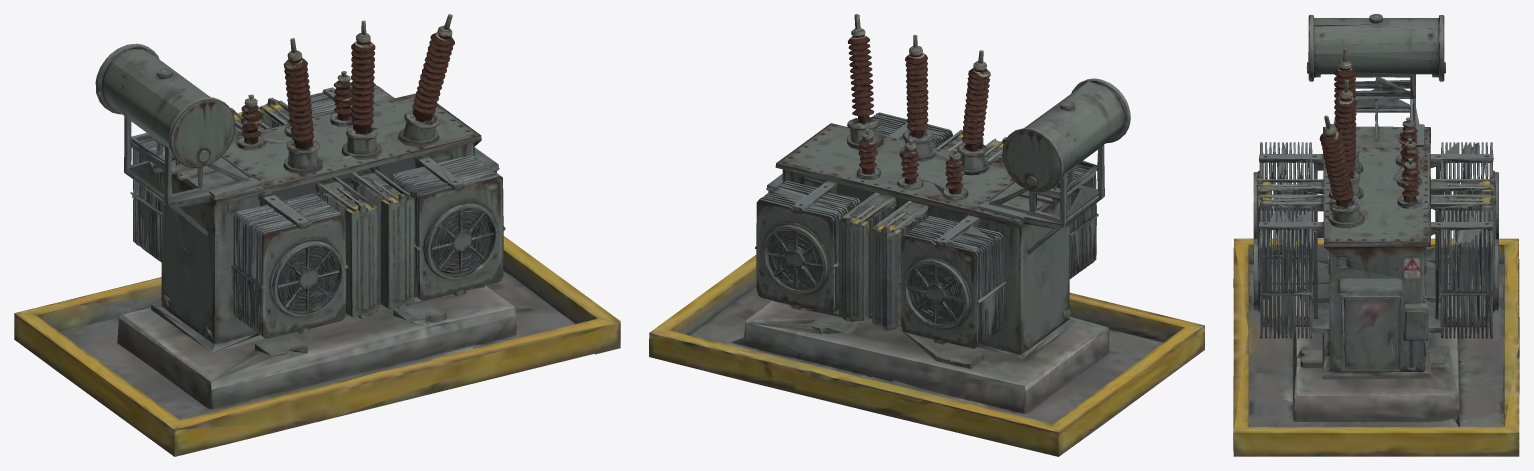
File: power_transformer.glb
3 renders of one model, left to right at view 1: azimuth 30°, elevation 25°; view 2: azimuth 150°, elevation 25°; view 3: azimuth 270°, elevation 25°, orthographic. The views are drawn at different scales.
Bounding box in the file's own units: 1.9 × 1.34 × 1.18.
Materials: 1 (1 with a texture image).
